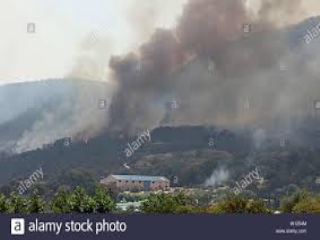smoke: (97, 7, 291, 139)
